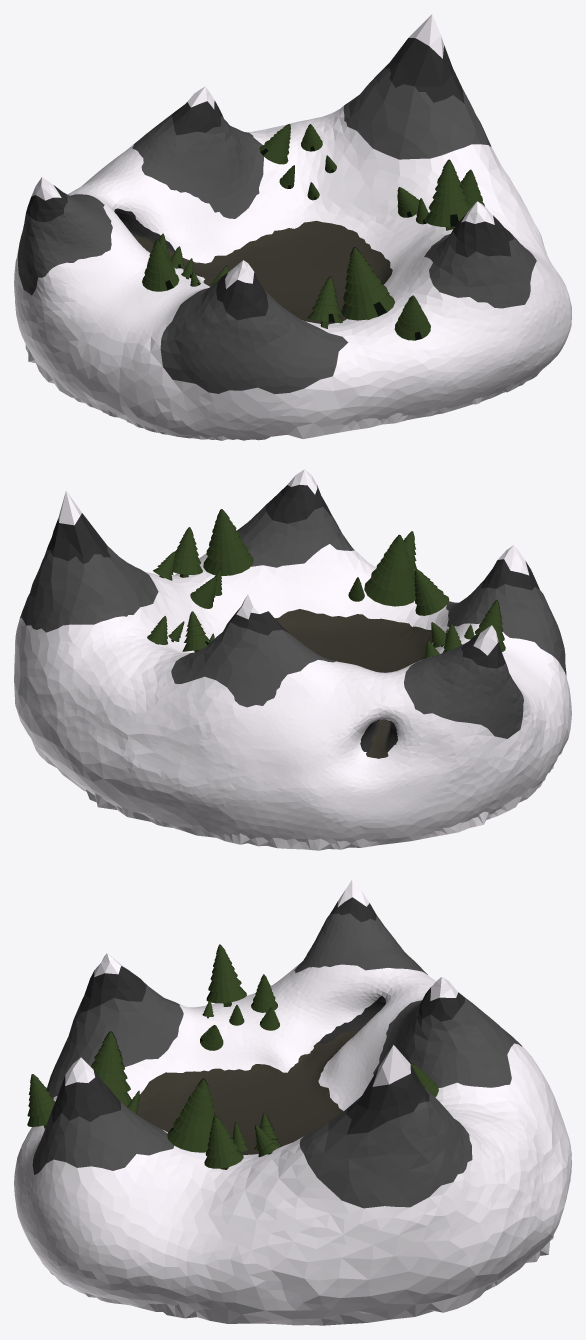
The model's file is Avalanche_Enviroment2.fbx.
The picture shows the model from 3 angles, top to bottom: view 1: azimuth 30°, elevation 25°; view 2: azimuth 150°, elevation 25°; view 3: azimuth 270°, elevation 25°; orthographic projection. The views are drawn at different scales.
Parts seen in each view (by area): view 1: Icosphere.004, Icosphere.009, Icosphere.007, Icosphere.008, Icosphere.006, Cube.001, Cube.012, Cube.005, Cube.004, Cube.002, Cube.016; view 2: Icosphere.004, Icosphere.009, Icosphere.007, Icosphere.008, Cube.001, Icosphere.006, Cube.012, Cube.002, Cube.011, Cube.016, Cube.005, Cube.013; view 3: Icosphere.004, Icosphere.009, Icosphere.007, Icosphere.008, Icosphere.006, Cube.012, Cube.001, Cube.005, Cube.011, Cube.004, Cube.006.
Boxes of the visible parts, x1,y1,x2,y2 form: Icosphere.004: [14, 105, 571, 440]; Icosphere.009: [17, 67, 536, 393]; Icosphere.007: [134, 220, 392, 324]; Icosphere.008: [27, 38, 513, 320]; Icosphere.006: [31, 14, 494, 288]; Cube.001: [341, 247, 394, 320]; Cube.012: [424, 159, 470, 230]; Cube.005: [142, 239, 179, 291]; Cube.004: [394, 295, 430, 340]; Cube.002: [307, 276, 342, 328]; Cube.016: [259, 124, 290, 164]; Icosphere.004: [14, 544, 571, 850]; Icosphere.009: [20, 506, 566, 812]; Icosphere.007: [275, 609, 432, 758]; Icosphere.008: [47, 484, 539, 752]; Cube.001: [364, 534, 415, 606]; Icosphere.006: [58, 469, 528, 655]; Cube.012: [203, 509, 253, 575]; Cube.002: [414, 569, 449, 615]; Cube.011: [172, 527, 202, 577]; Cube.016: [182, 611, 209, 652]; Cube.005: [470, 600, 505, 651]; Cube.013: [190, 577, 216, 608]; Icosphere.004: [14, 964, 571, 1325]; Icosphere.009: [32, 913, 521, 1208]; Icosphere.007: [136, 1030, 358, 1154]; Icosphere.008: [52, 897, 464, 1134]; Icosphere.006: [65, 879, 458, 1086]; Cube.012: [167, 1078, 215, 1152]; Cube.001: [91, 1031, 131, 1106]; Cube.005: [206, 944, 246, 1006]; Cube.011: [204, 1116, 243, 1169]; Cube.004: [27, 1074, 55, 1128]; Cube.006: [251, 974, 277, 1012].
Size of the model in its own units: 18343 by 8776 by 16643.
